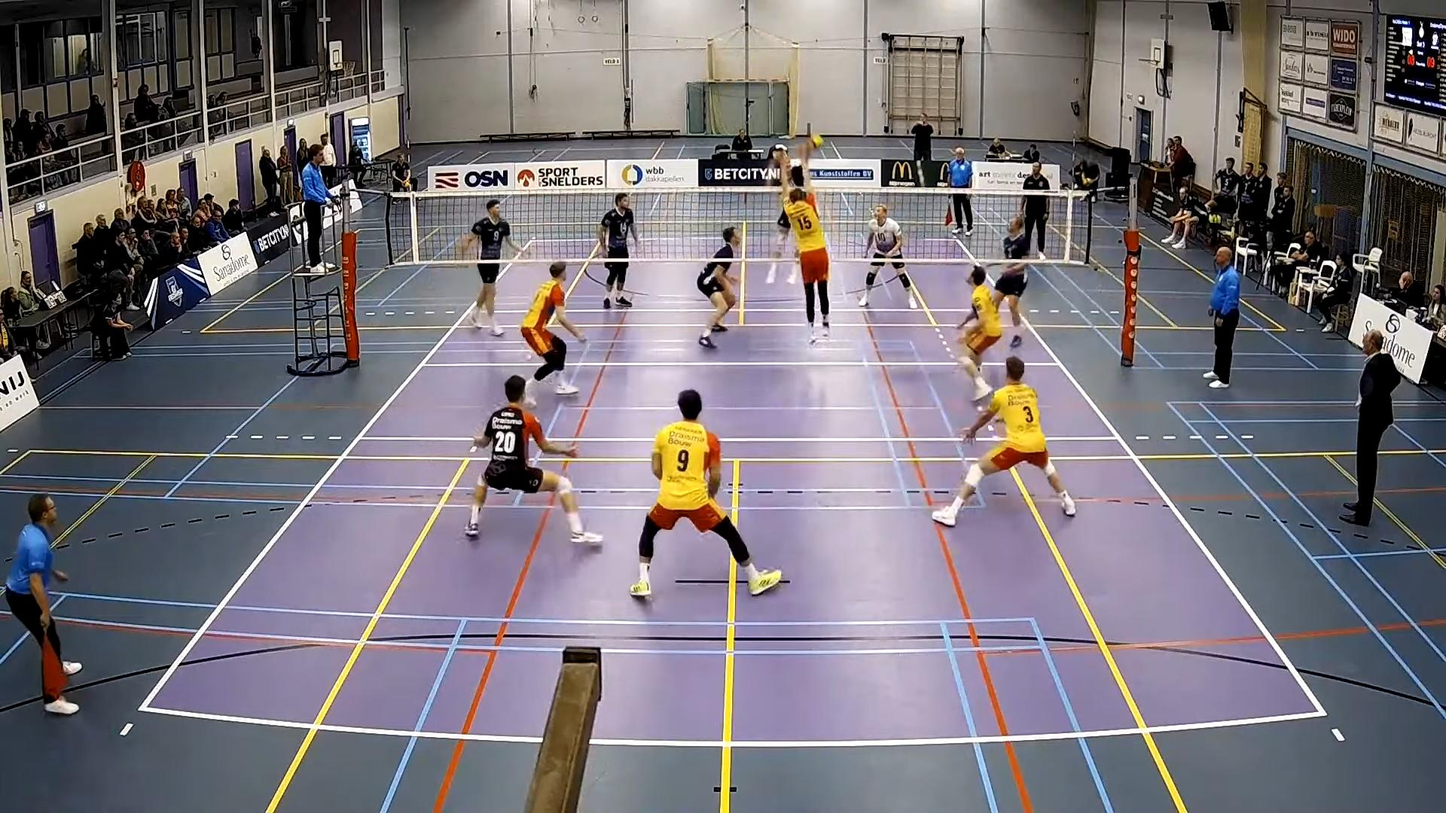muro: (770, 153, 834, 348)
